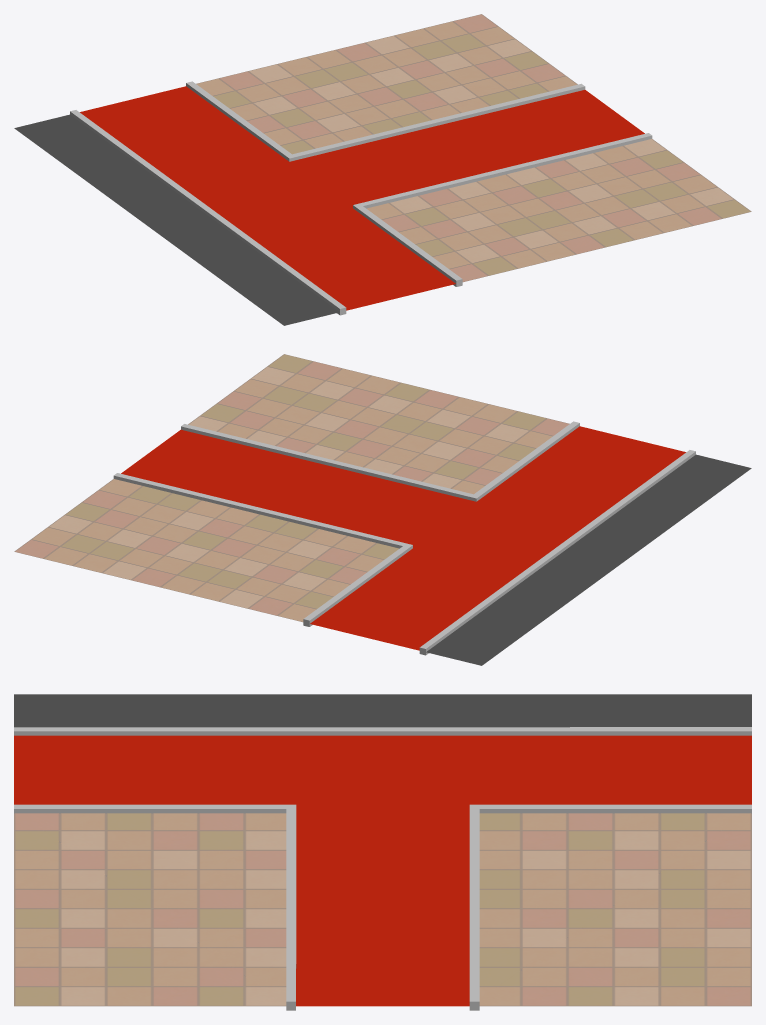
Rendered from Set_C_Tiles_03.fbx.
3 renders of one model, top to bottom at view 1: azimuth 30°, elevation 25°; view 2: azimuth 150°, elevation 25°; view 3: azimuth 270°, elevation 25°, orthographic. The views are drawn at different scales.
Parts seen in each view (by area): view 1: Set_C_Tiles_03; view 2: Set_C_Tiles_03; view 3: Set_C_Tiles_03.
Part boxes in pixels (x1=…): Set_C_Tiles_03: x1=14, y1=14, x2=751, y2=325; Set_C_Tiles_03: x1=14, y1=354, x2=751, y2=665; Set_C_Tiles_03: x1=14, y1=694, x2=751, y2=1010.
Bounding box in the file's own units: 1500 × 1500 × 20.
